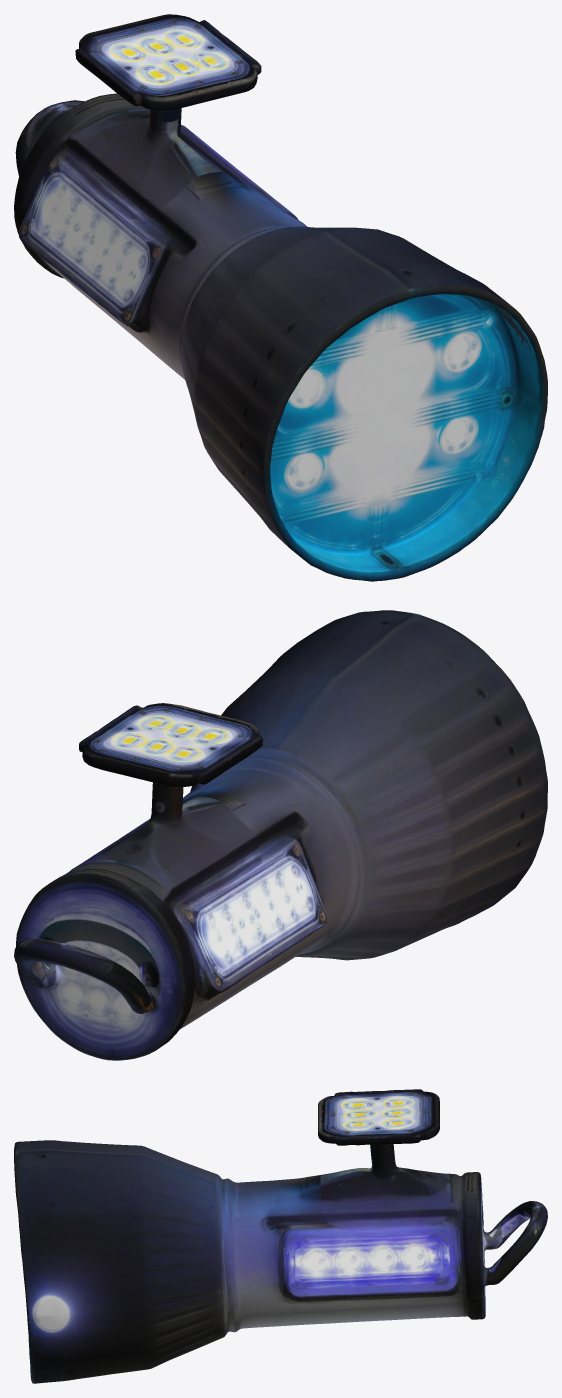
3 renders of one model, top to bottom at view 1: azimuth 30°, elevation 25°; view 2: azimuth 150°, elevation 25°; view 3: azimuth 270°, elevation 25°, orthographic. The views are drawn at different scales.
Parts seen in each view (by area): view 1: Mesh1.0; view 2: Mesh1.0; view 3: Mesh1.0.
Boxes of the visible parts, x1,y1,x2,y2 form: Mesh1.0: (14, 14, 547, 581); Mesh1.0: (14, 610, 547, 1060); Mesh1.0: (14, 1089, 547, 1383).
Size of the model in its own units: 91.29 by 109 by 200.
1 material, 1 textured.
